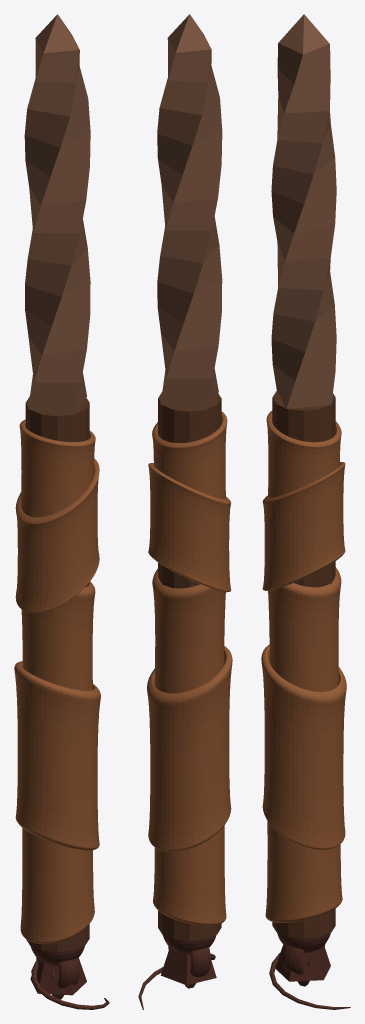
File: Wand 354.glb
3 views of the same model, side by side, from view 1: azimuth 30°, elevation 25°; view 2: azimuth 210°, elevation 25°; view 3: azimuth 330°, elevation 25° (orthographic).
Parts seen in each view (by area): view 1: GeneratedWand, Pommel_9, Pommel_4, Pommel_10, Pommel_2; view 2: GeneratedWand, Pommel_9, Pommel_4, Pommel_2; view 3: GeneratedWand, Pommel_9, Pommel_4, Pommel_2, Pommel_10.
Part boxes in pixels (x1,y1,x2,y2): GeneratedWand: (14,14,100,951); Pommel_9: (30,957,86,995); Pommel_4: (30,945,84,965); Pommel_10: (31,959,109,1009); Pommel_2: (36,957,79,987); GeneratedWand: (147,14,232,940); Pommel_9: (160,947,216,985); Pommel_4: (163,935,216,954); Pommel_2: (168,946,210,976); GeneratedWand: (261,14,346,938); Pommel_9: (275,945,330,981); Pommel_4: (277,932,330,952); Pommel_2: (282,944,325,974); Pommel_10: (269,952,350,1009).
Size of the model in its own units: 0.0462 by 0.5179 by 0.0408.
